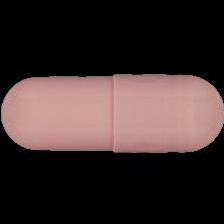54868-5782: (0, 0, 224, 224)
